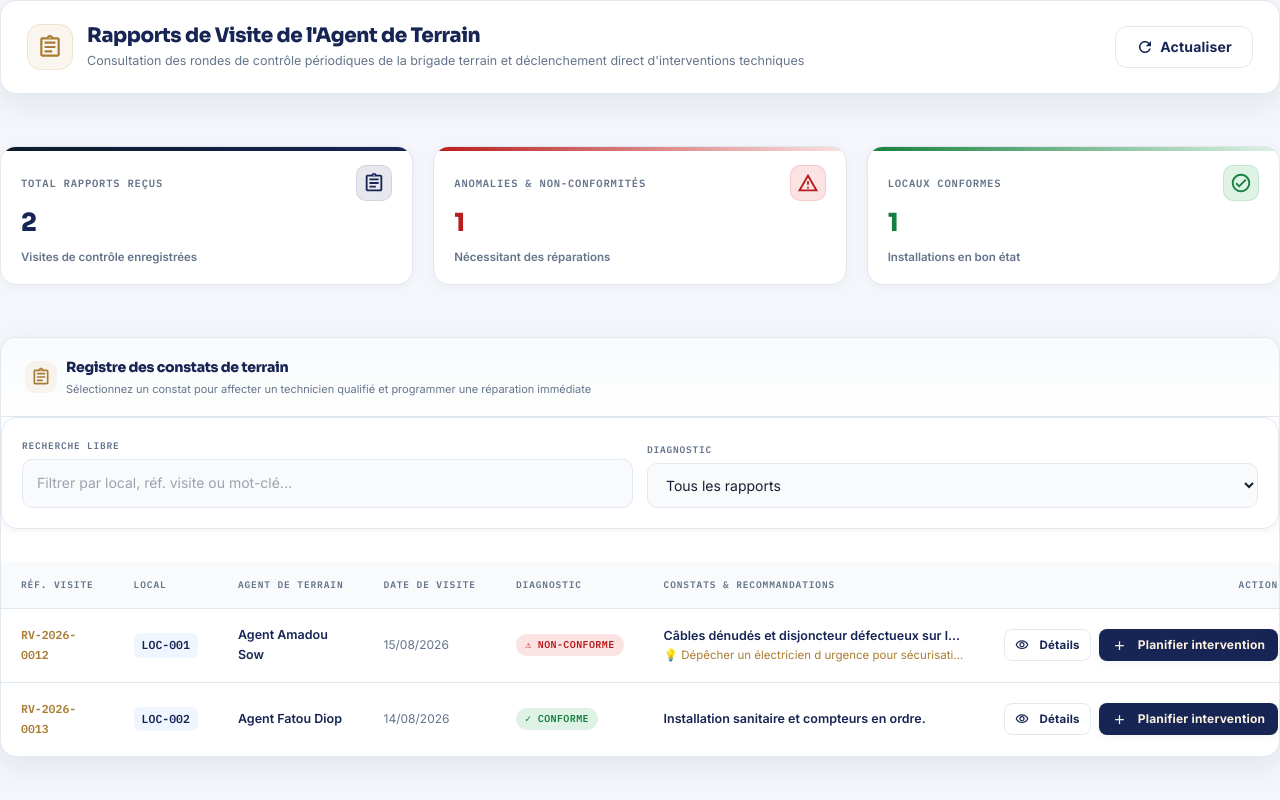
RapportsTerrainTechnique › ouvre la modale de détails
Click the button "Détails" in the row of "RV-2026-0012": point(1047, 645) [1004,629,1091,661]
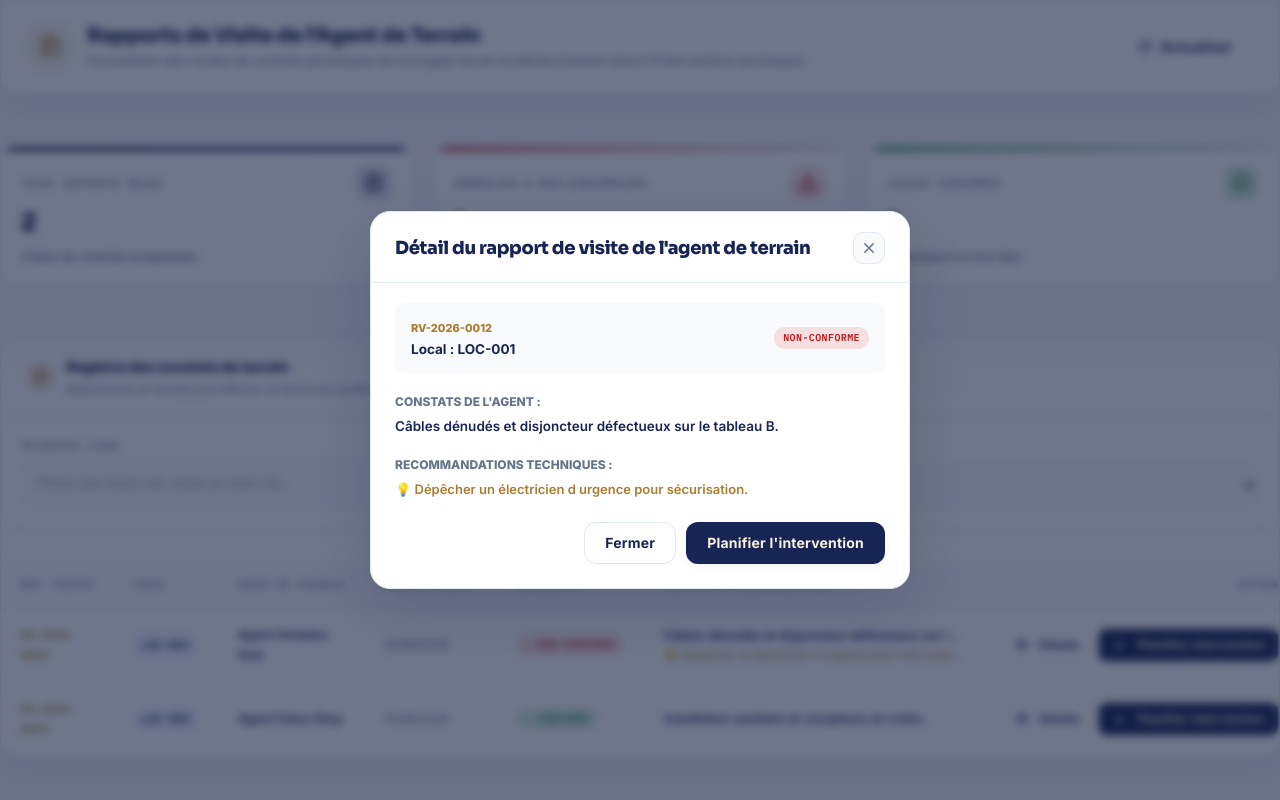
Result: the heading "Détail du rapport de visite de l'agent de terrain" is shown at [395,234,811,263]
